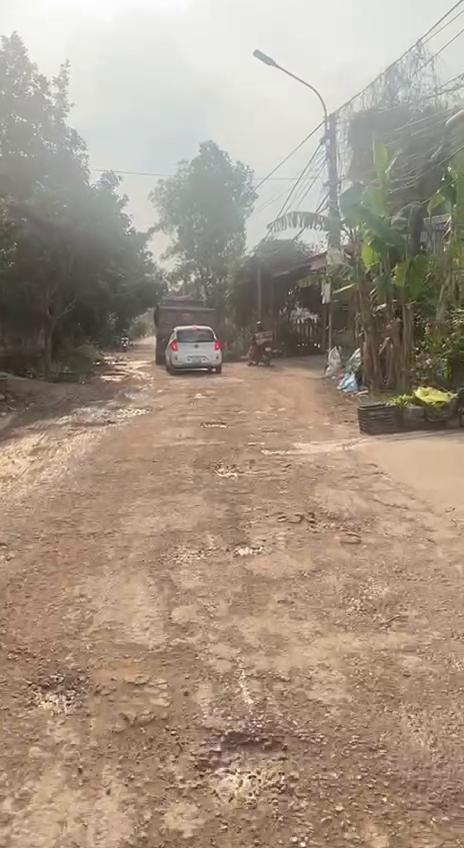pothole: (195, 729, 296, 810), (106, 722, 188, 806), (34, 669, 96, 718), (159, 532, 214, 570), (305, 511, 371, 539), (210, 460, 241, 477)
